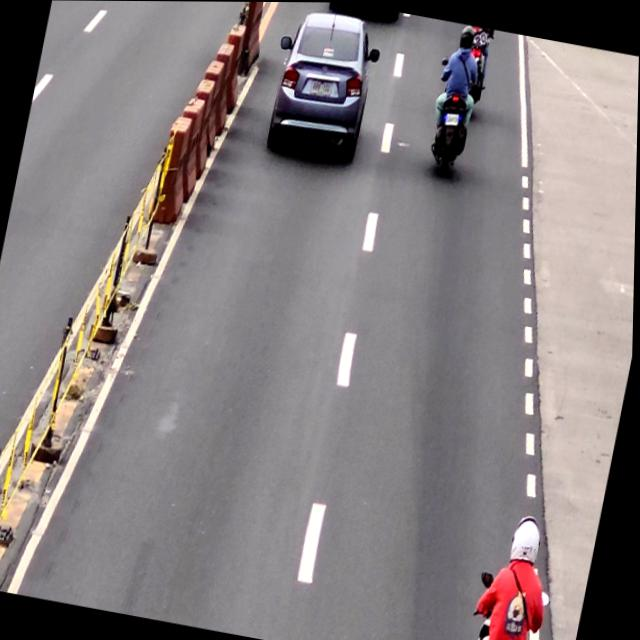Car: (259, 4, 385, 166)
License-Plate: (309, 78, 333, 97), (444, 112, 460, 127)
Motorcycle: (418, 52, 485, 181), (452, 24, 498, 108)
